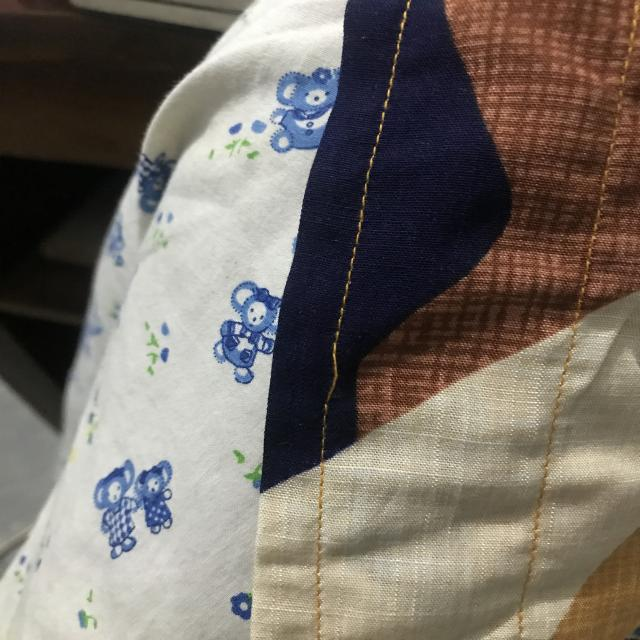good: (344, 148, 383, 249)
skip: (312, 316, 356, 424)
